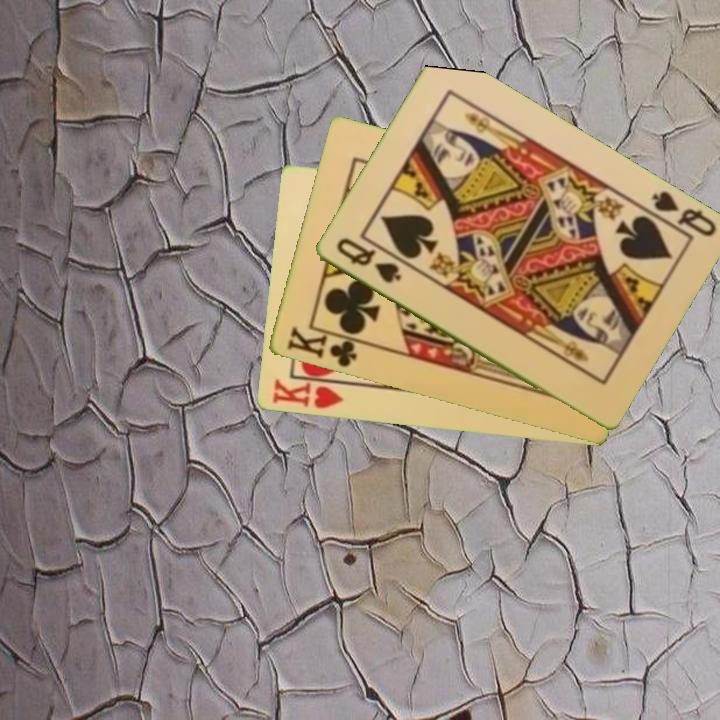Kc: (283, 323, 366, 371)
Kh: (269, 375, 352, 412)
Qs: (639, 187, 719, 242), (332, 234, 404, 287)
